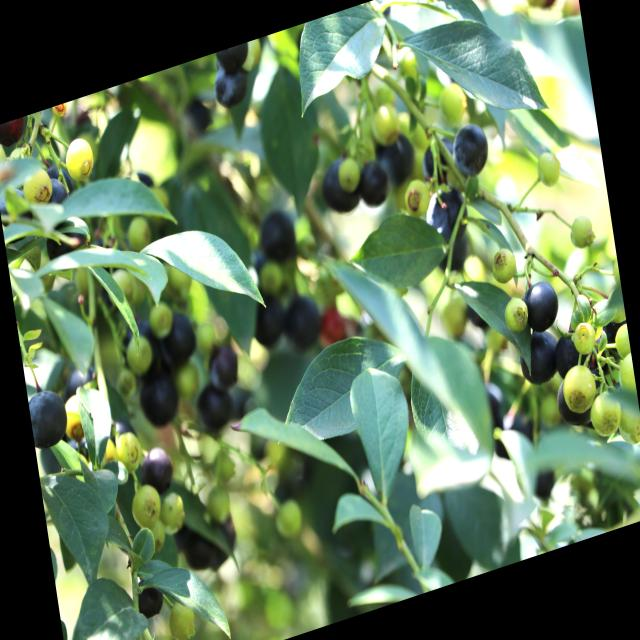blueberry: (419, 175, 474, 250), (282, 280, 325, 354), (26, 378, 68, 447), (317, 155, 361, 220), (508, 333, 558, 390), (449, 119, 494, 182), (252, 200, 297, 262), (375, 127, 417, 193), (135, 444, 179, 507), (518, 275, 561, 338), (135, 363, 174, 430), (156, 306, 196, 368), (249, 284, 286, 345), (552, 325, 590, 377), (356, 155, 391, 211), (213, 66, 249, 118)
blueberry-halfripe: (318, 304, 347, 348)
blueberry-unripe: (559, 356, 600, 418), (61, 130, 100, 188), (586, 388, 624, 446), (127, 477, 165, 531), (109, 426, 144, 477), (19, 163, 54, 213), (155, 487, 189, 538), (435, 80, 468, 131), (124, 330, 156, 380), (370, 100, 402, 148), (488, 240, 519, 286), (534, 145, 563, 191), (403, 173, 432, 219), (502, 292, 532, 336), (566, 212, 595, 254), (615, 402, 640, 447), (572, 316, 600, 356), (146, 300, 174, 340), (615, 356, 637, 404), (337, 154, 362, 194), (611, 324, 632, 364)
